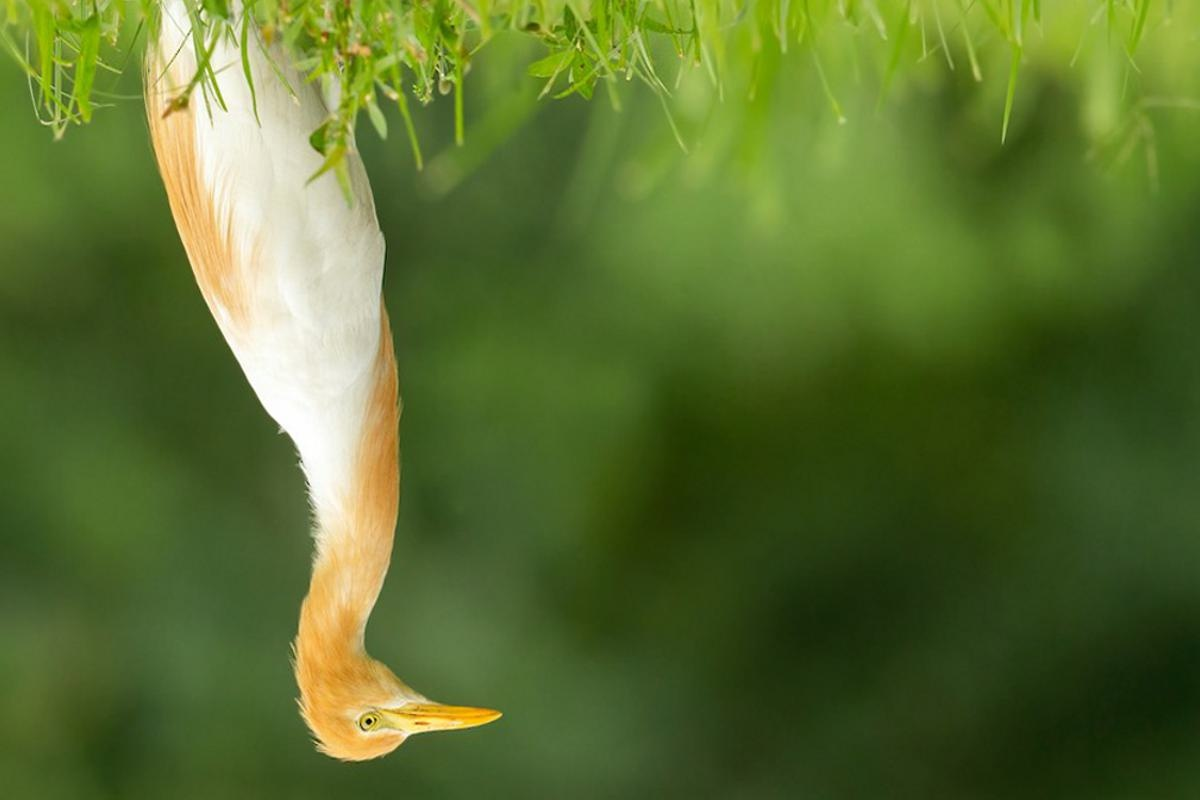egret: (119, 12, 513, 767)
